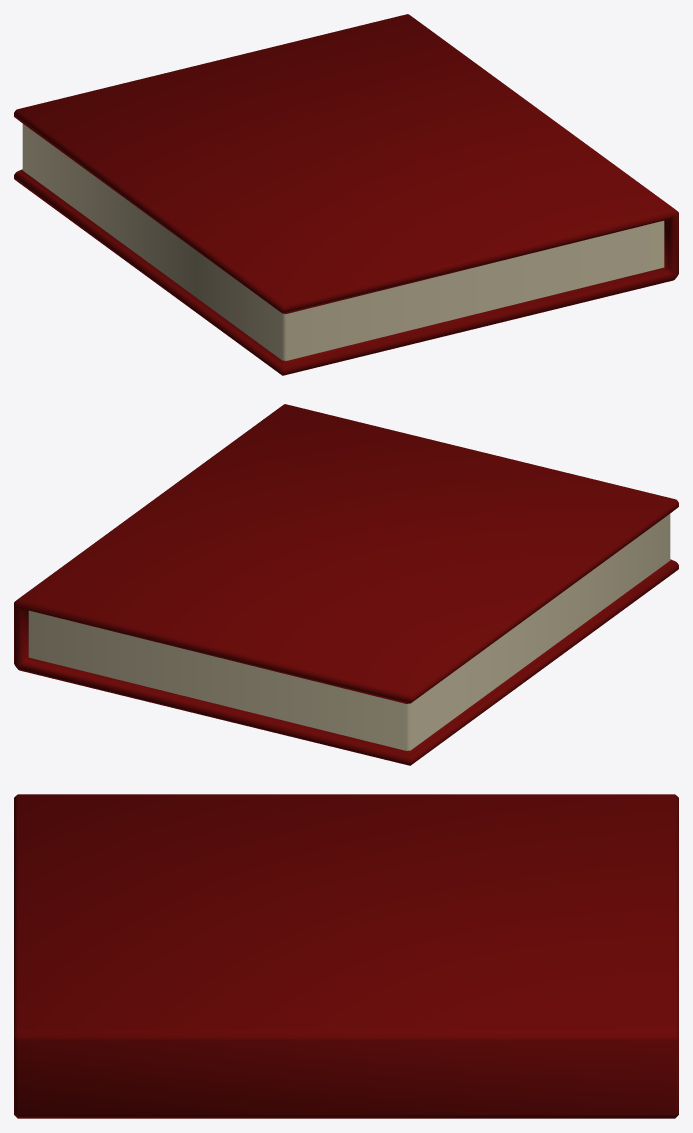
File: Red book.fbx
The picture shows the model from 3 angles, top to bottom: view 1: azimuth 30°, elevation 25°; view 2: azimuth 150°, elevation 25°; view 3: azimuth 270°, elevation 25°; orthographic projection. The views are drawn at different scales.
Visible parts, largest first — view 1: Cube; view 2: Cube; view 3: Cube.
Boxes of the visible parts, x1,y1,x2,y2 form: Cube: (14, 14, 678, 375); Cube: (14, 404, 678, 765); Cube: (14, 794, 678, 1118).
Bounding box in the file's own units: 0.2141 × 0.0368 × 0.25.
